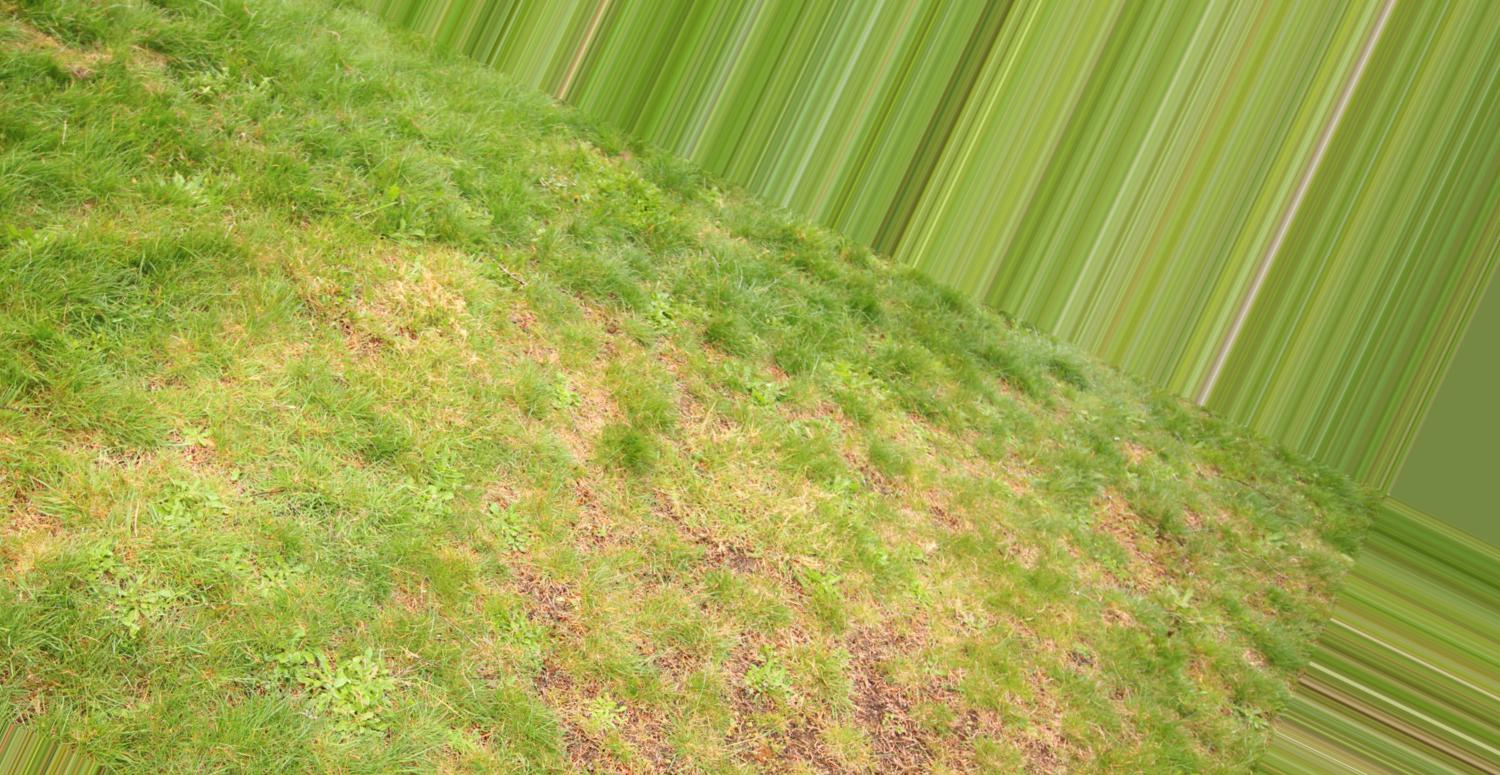patch: (709, 374, 958, 556), (434, 442, 688, 599), (757, 615, 968, 775), (372, 276, 620, 388), (1, 425, 141, 592), (471, 655, 641, 775), (1023, 600, 1153, 756), (157, 442, 294, 582), (1017, 445, 1173, 545)
